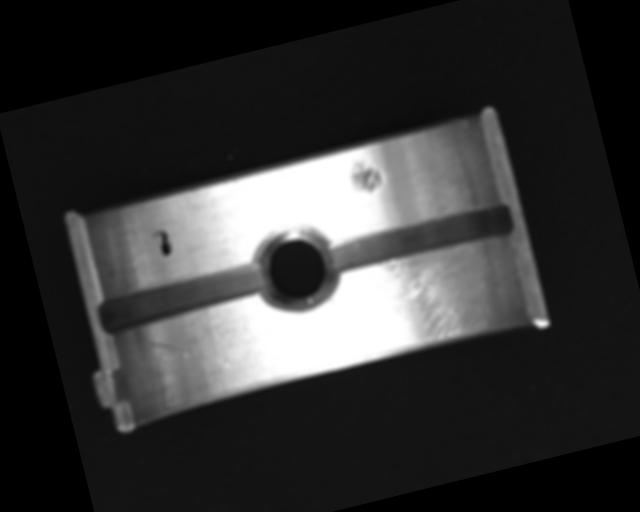blot: (150, 228, 175, 259)
bruise: (346, 153, 385, 197)
gap: (321, 198, 518, 280), (95, 260, 266, 334)
hole: (244, 219, 342, 320)
nick: (139, 320, 233, 387)
scratch: (333, 232, 523, 366)
